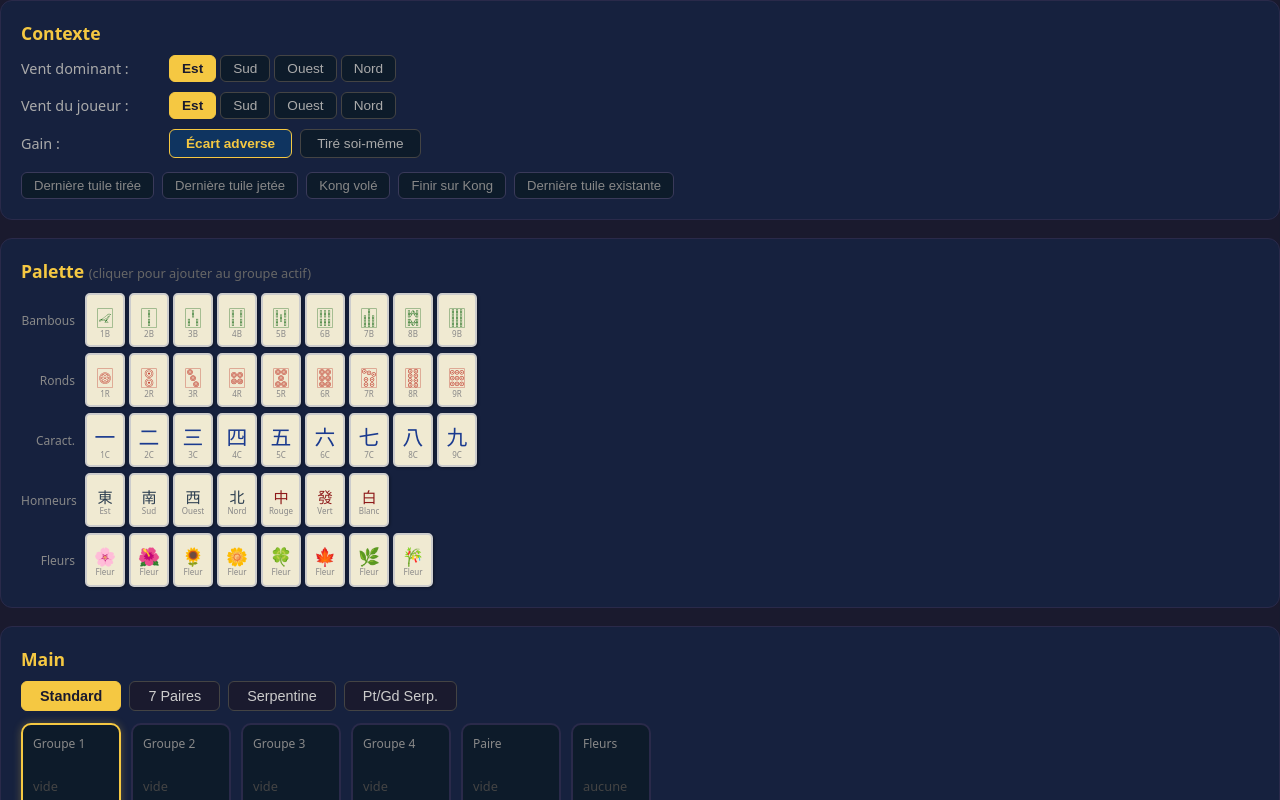
Test case: CalculatorTab — ajout et suppression de tuiles › bouton ⌫ supprime la dernière tuile du slot
This screenshot has width=1280, height=800.
What coordinates should you click on to do the following:
click the element titled "2B"
I would click on:
 (149, 320)
Its box is [129,293,169,347].
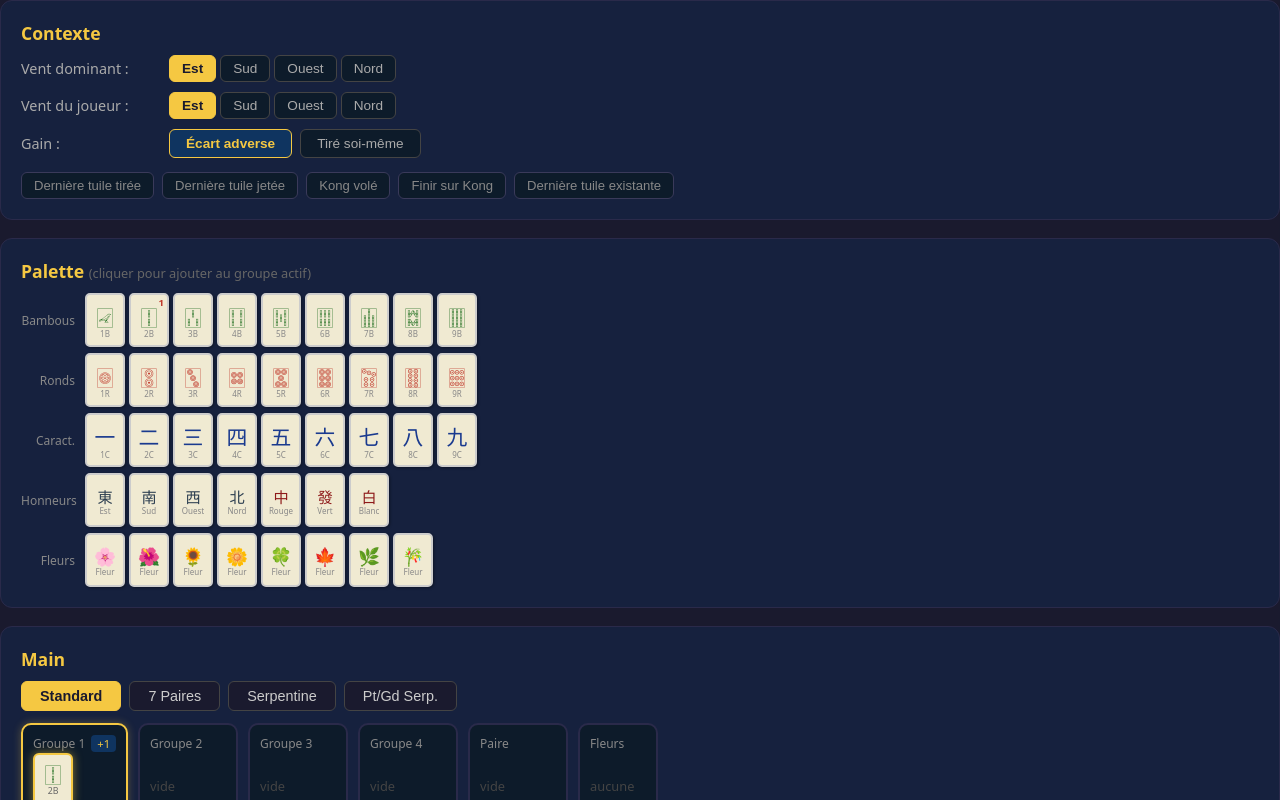
What coordinates should you click on to do the following:
click the element titled "3B"
I would click on:
 (193, 320)
Its box is [173,293,213,347].
(page scrolled)
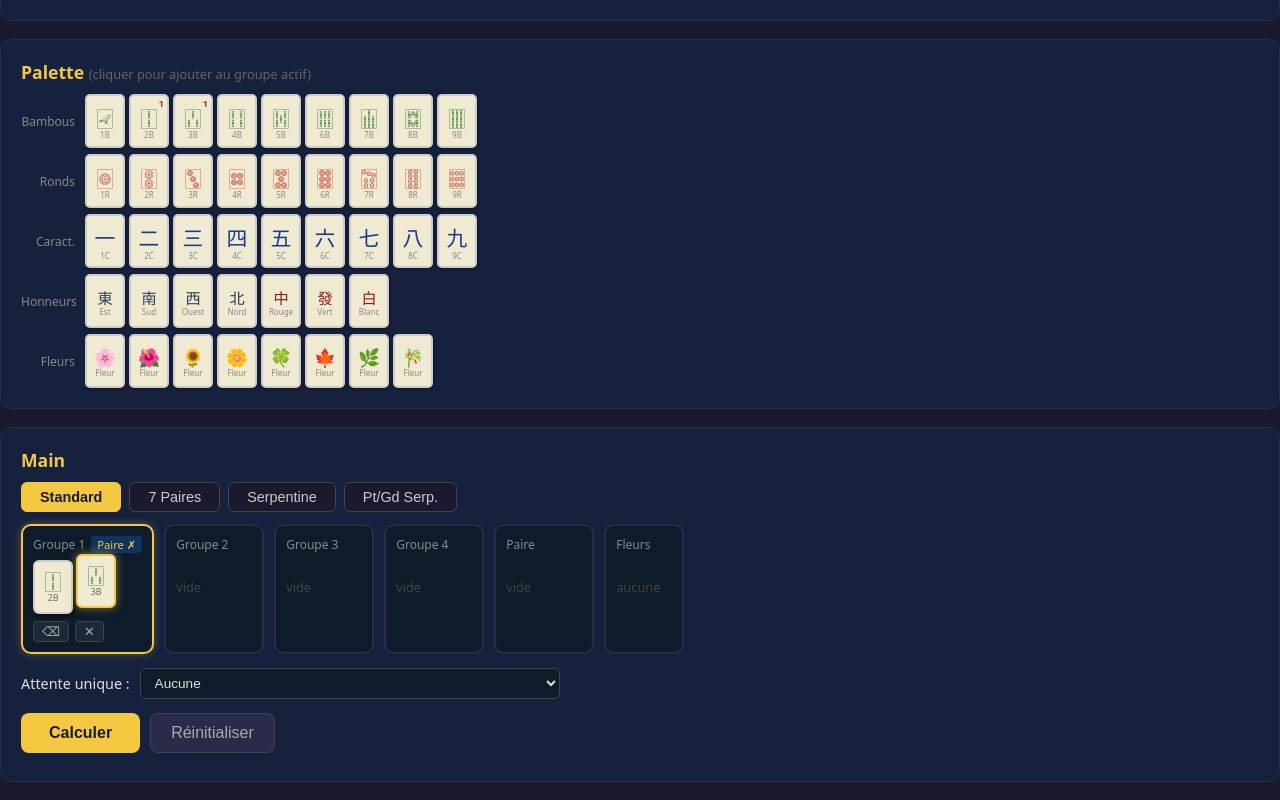
Expected: the button with class "slot-btn" showing "⌫" is shown
What coordinates should you click on to do the following:
click the button with class "slot-btn" showing "⌫"
I would click on:
 (51, 632)
Its box is [33,621,69,642].
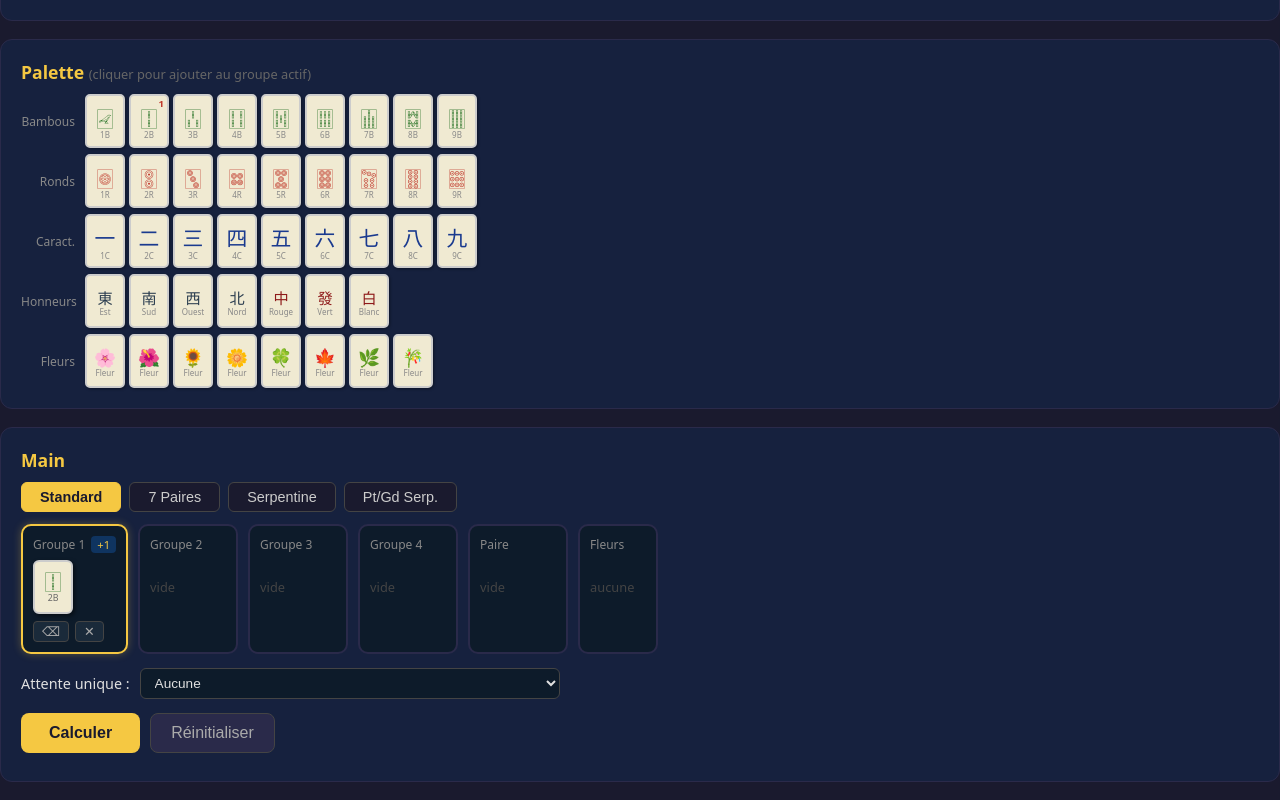
Expected: the number of elements with class "tile" is 1, [33,560,73,614]
